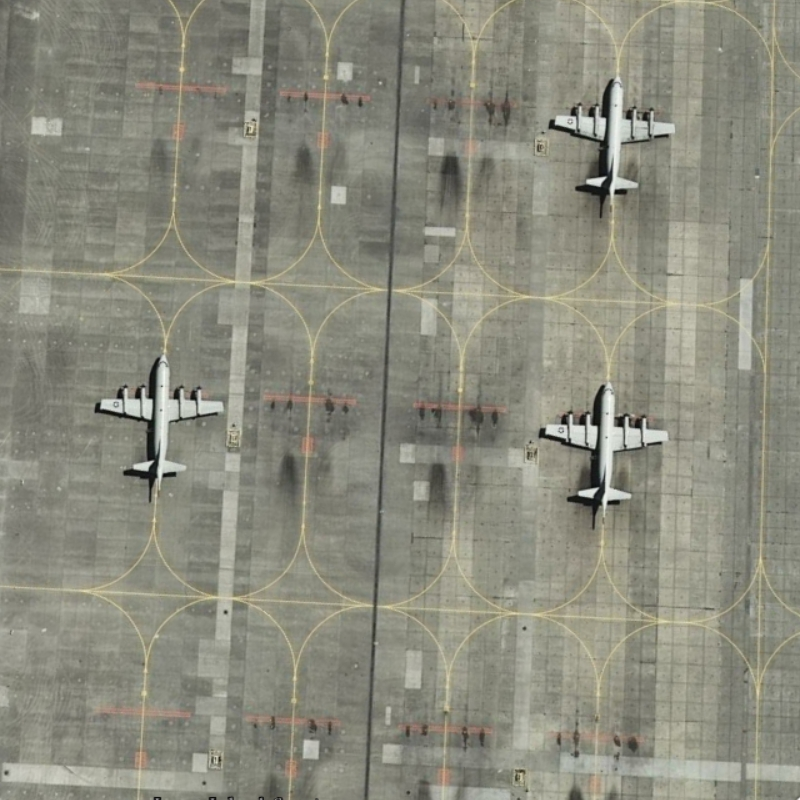A9: (88, 343, 228, 506), (526, 375, 672, 530), (544, 71, 682, 222)
